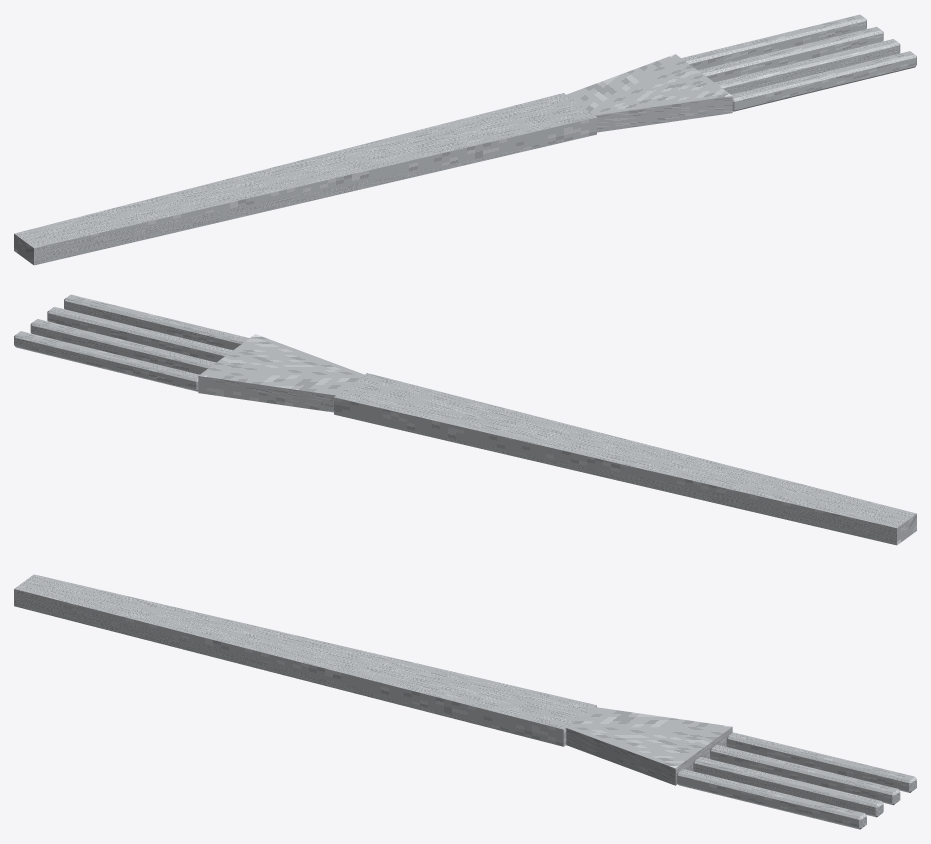
The model's file is fork.glb.
3 views of the same model, one above another, from view 1: azimuth 30°, elevation 25°; view 2: azimuth 150°, elevation 25°; view 3: azimuth 330°, elevation 25° (orthographic).
Parts seen in each view (by area): view 1: block_handle, block_head, block_tine3, block_tine2, block_tine1, block_tine0; view 2: block_handle, block_head, block_tine0, block_tine1, block_tine2, block_tine3; view 3: block_handle, block_head, block_tine3, block_tine0, block_tine2, block_tine1.
Boxes of the visible parts, x1,y1,x2,y2 form: block_handle: [14, 93, 596, 265]; block_head: [566, 54, 732, 132]; block_tine3: [731, 51, 916, 111]; block_tine2: [715, 39, 900, 94]; block_tine1: [698, 26, 883, 82]; block_tine0: [681, 14, 866, 70]; block_handle: [334, 373, 916, 545]; block_head: [198, 334, 364, 412]; block_tine0: [14, 331, 199, 391]; block_tine1: [30, 319, 215, 374]; block_tine2: [47, 306, 232, 362]; block_tine3: [64, 294, 249, 350]; block_handle: [14, 574, 596, 746]; block_head: [566, 707, 732, 785]; block_tine3: [676, 769, 866, 829]; block_tine0: [726, 732, 916, 792]; block_tine2: [693, 757, 883, 817]; block_tine1: [710, 744, 900, 805].
Size of the model in its own units: 0.21 by 0.004 by 0.024.
Materials: 1 (1 with a texture image).
